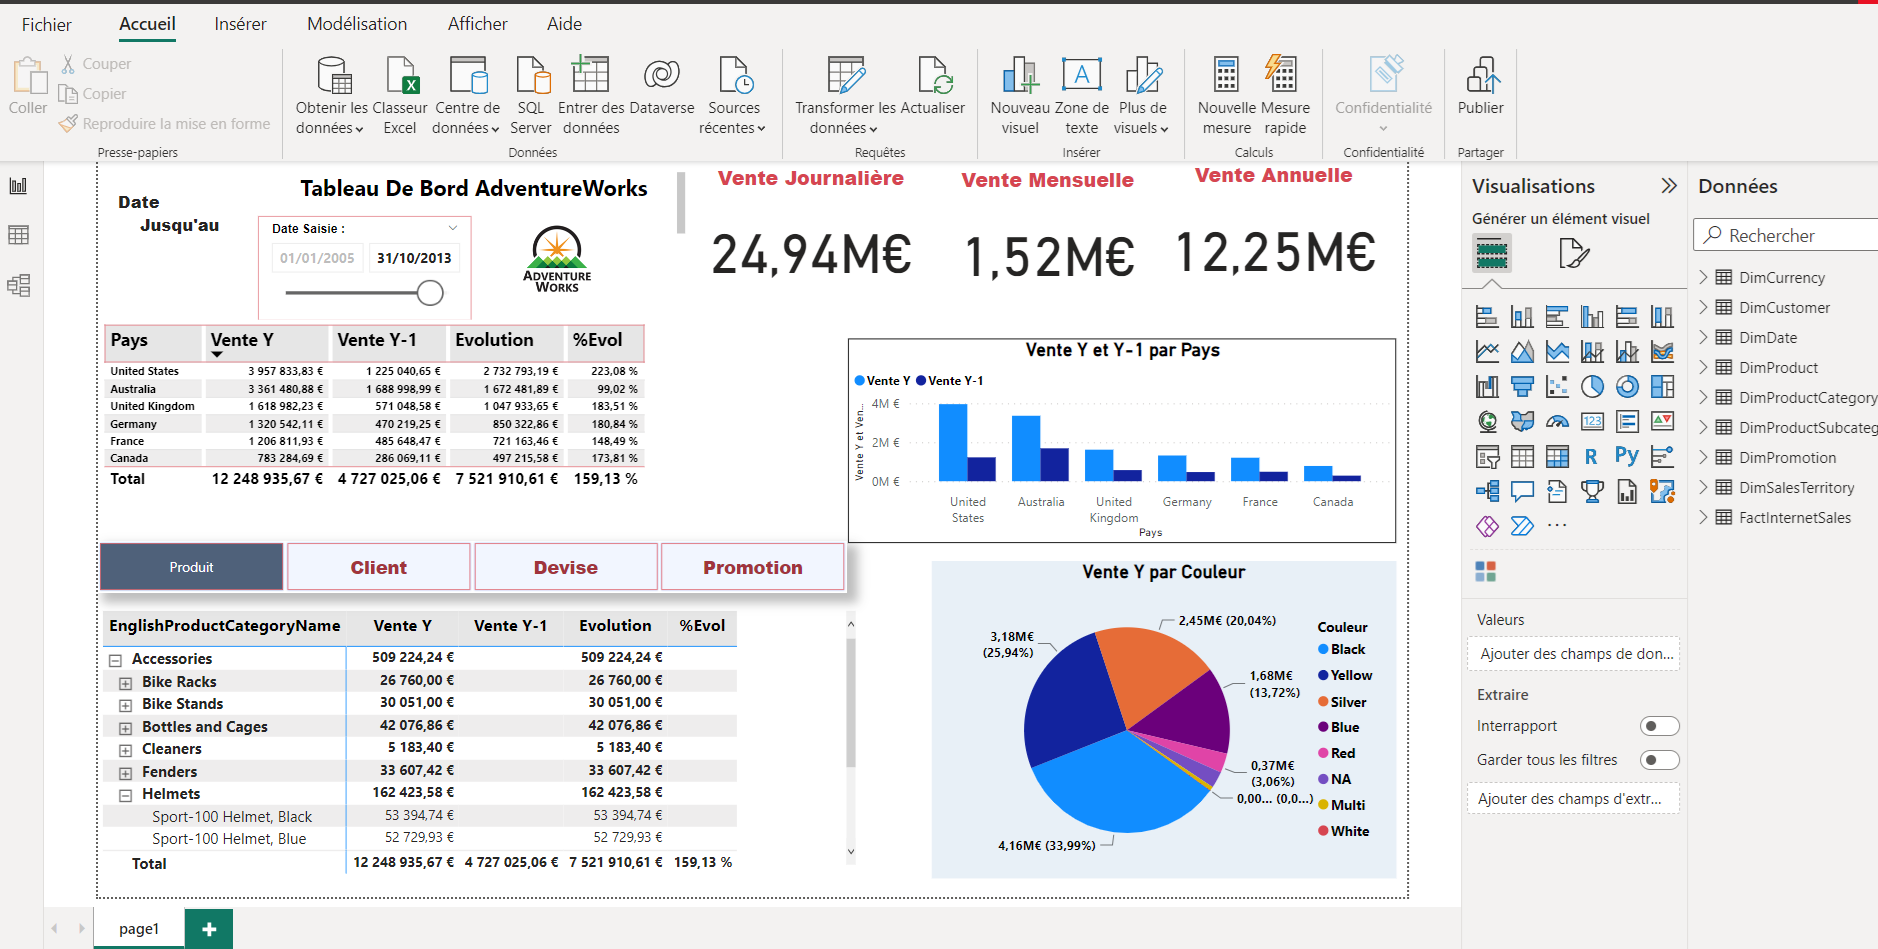

The dashboard page shown, as its layout file describes it:
{"tool":"powerbi","page":{"name":"page1","canvas":[1280,720],"ordinal":0},"visuals":[{"type":"clusteredColumnChart","title":"Vente Y et Y-1 par Pays","fields":{"Y":["FactInternetSales.vente Y","FactInternetSales.vente_y-1"],"Category":["DimSalesTerritory.SalesTerritoryCountry"]},"box":[732.9,173.9,536,199.8],"z":0},{"type":"textbox","box":[163.8,5.7,415.3,71.9],"z":1000},{"type":"image","box":[394.2,53.4,109.9,83.2],"z":2000},{"type":"slicer","fields":{"Values":["DimDate.FullDateAlternateKey"]},"box":[157.1,53.4,208.9,102.1],"z":3000},{"type":"tableEx","fields":{"Values":["DimSalesTerritory.SalesTerritoryCountry","FactInternetSales.vente Y","FactInternetSales.vente_y-1","FactInternetSales.evolution","FactInternetSales.%Evol"]},"box":[0,155.5,640.8,193.2],"z":4000},{"type":"card","title":"Vente Annuelle","fields":{"Values":["FactInternetSales.vente Y"]},"box":[1030.4,0,238.6,136.5],"z":5000},{"type":"card","title":"Vente Mensuelle","fields":{"Values":["FactInternetSales.vente_mensuelle"]},"box":[814.9,4.3,227.1,136.5],"z":6000},{"type":"card","title":"Vente Journalière","fields":{"Values":["FactInternetSales.vente_journalier"]},"box":[579.2,2.9,235.7,136.5],"z":7000},{"type":"pivotTable","fields":{"Rows":["DimProductCategoryy.EnglishProductCategoryName","DimProductSubcategory.EnglishProductSubcategoryName","DimProduct.EnglishProductName"],"Values":["FactInternetSales.Vente Y","FactInternetSales.Vente Y-1","FactInternetSales.Evolution","FactInternetSales.%Evol"]},"box":[0,435,746,267],"z":8000},{"type":"pieChart","title":"Vente Y par Couleur","fields":{"Category":["DimProduct.Color"],"Y":["FactInternetSales.vente Y"]},"box":[814.9,390.9,454.1,310.4],"z":10000},{"type":"bookmarkNavigator","box":[0,372.2,732.9,50.3],"z":17000},{"type":"textbox","box":[14.1,23.6,131.9,95.8],"z":17001}]}

Visuals, with their boxes on the page's 1280x720 design canvas (x1, y1, x2, y2). These are canvas units, not pixel positions in the 1878x949 screenshot, which may show the page scaled, cropped or inside an application window:
"Vente Y et Y-1 par Pays" clusteredColumnChart: 733:174:1269:374
textbox: 164:6:579:78
image: 394:53:504:137
slicer - DimDate.FullDateAlternateKey: 157:53:366:156
tableEx - DimSalesTerritory.SalesTerritoryCountry x FactInternetSales.vente Y: 0:156:641:349
"Vente Annuelle" card: 1030:0:1269:136
"Vente Mensuelle" card: 815:4:1042:141
"Vente Journalière" card: 579:3:815:139
pivotTable - DimProductCategoryy.EnglishProductCategoryName x DimProductSubcategory.EnglishProductSubcategoryName: 0:435:746:702
"Vente Y par Couleur" pieChart: 815:391:1269:701
bookmarkNavigator: 0:372:733:422
textbox: 14:24:146:119
